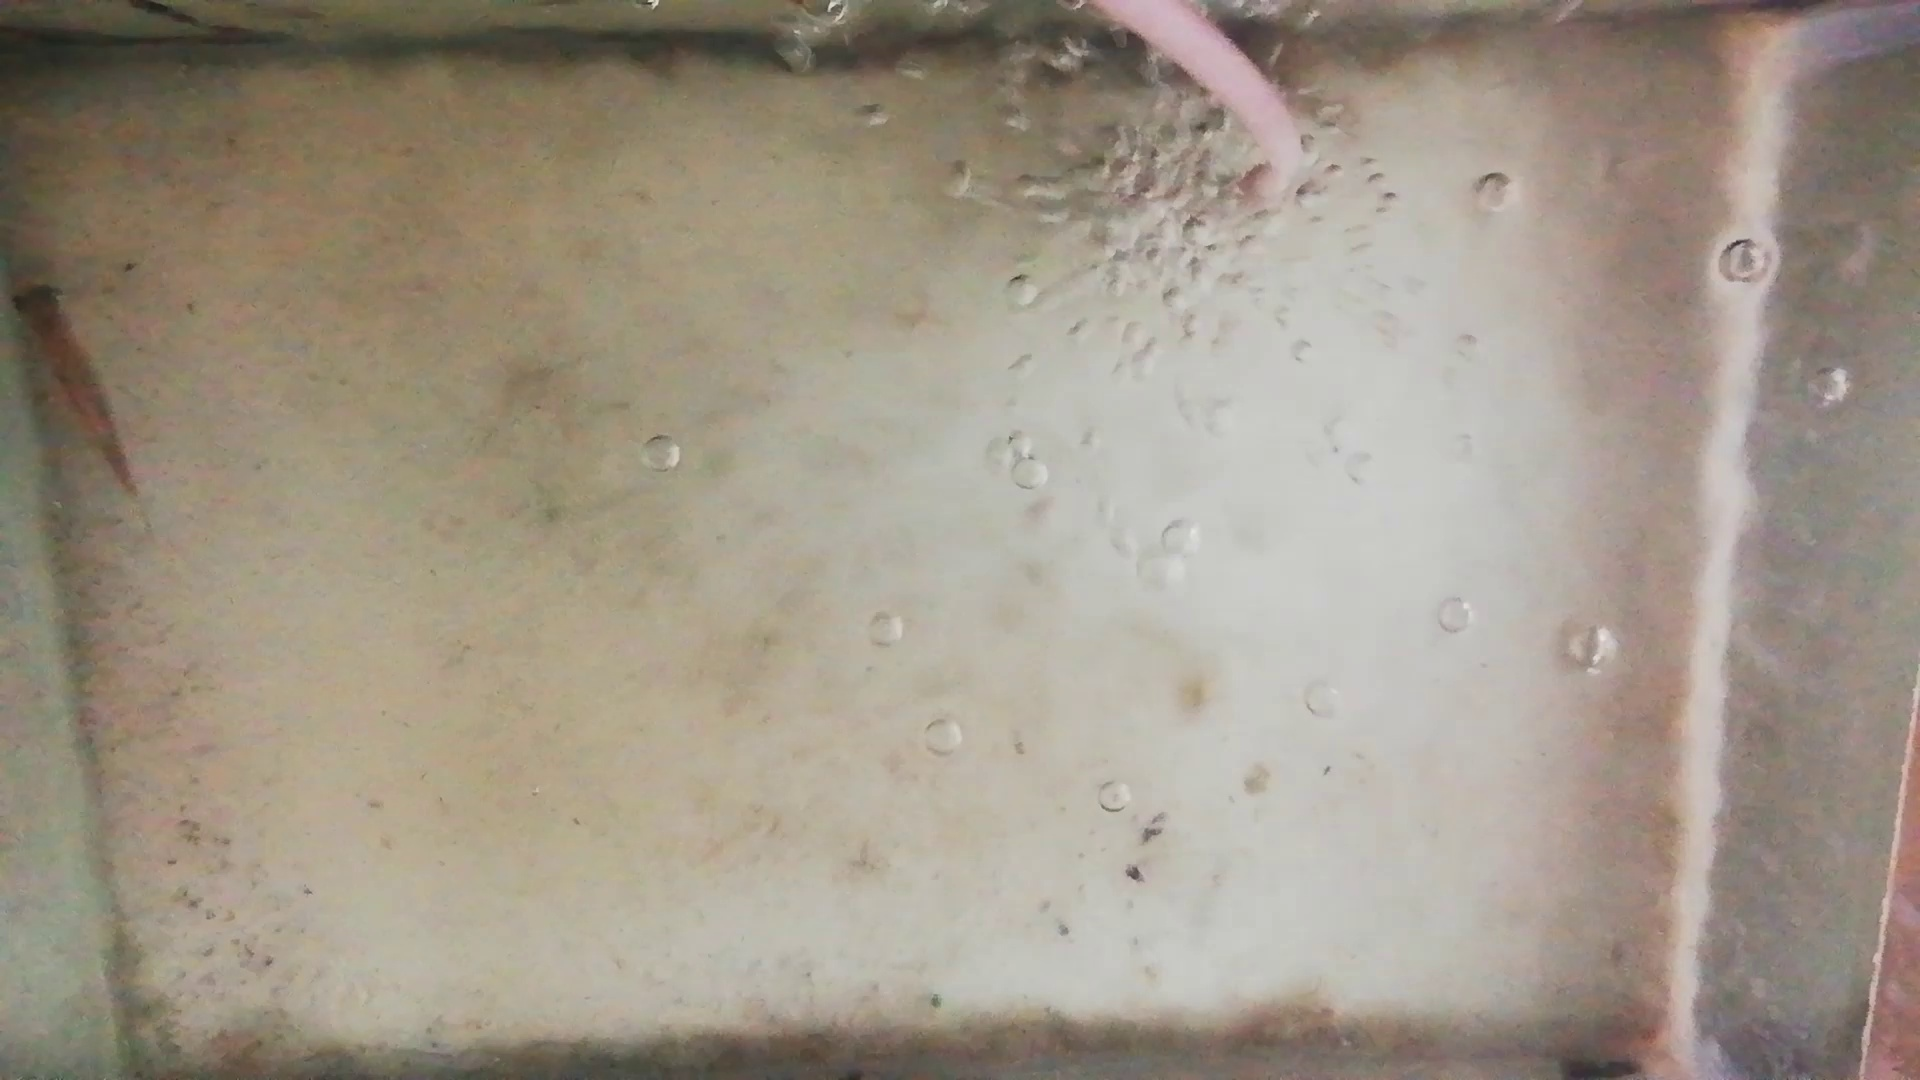fish: (20, 280, 138, 495)
